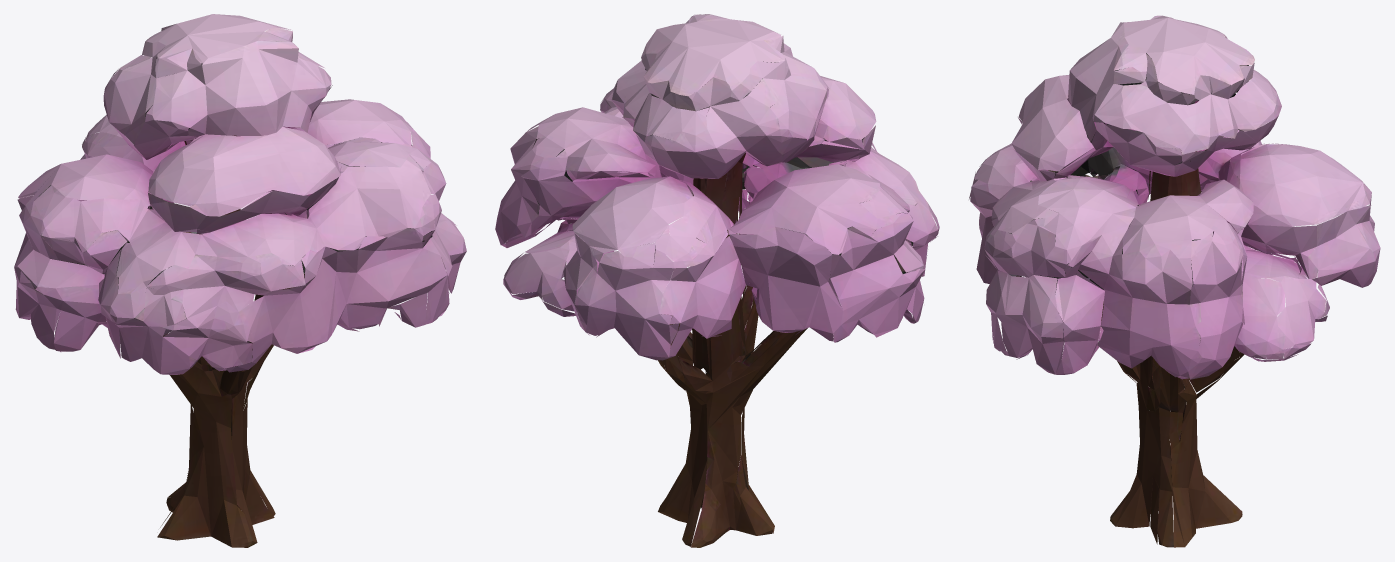
File: pink_tree.glb
3 views of the same model, side by side, from view 1: azimuth 30°, elevation 25°; view 2: azimuth 150°, elevation 25°; view 3: azimuth 270°, elevation 25° (orthographic). The views are drawn at different scales.
Visible parts, largest first — view 1: geometry_0; view 2: geometry_0; view 3: geometry_0.
Part boxes in pixels (x1,y1,x2,y2): geometry_0: (14, 14, 466, 547); geometry_0: (495, 14, 939, 547); geometry_0: (969, 15, 1380, 547).
Size of the model in its own units: 0.8649 by 1 by 0.7646.
Materials: 1 (1 with a texture image).
